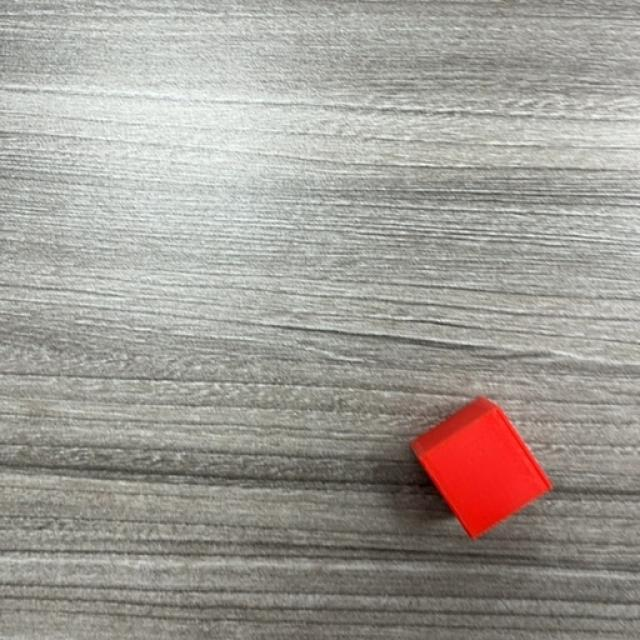Rojo: (409, 398, 554, 540)
